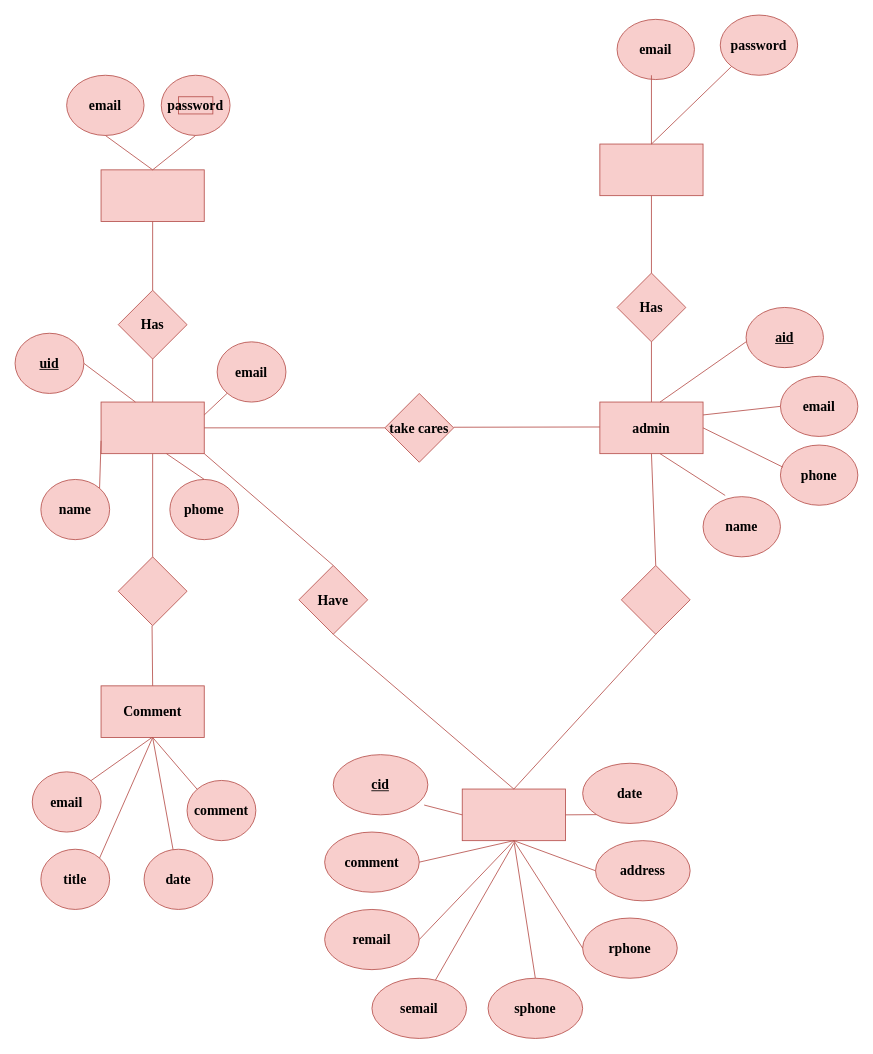
Image size: 873x1054. Some labels were removed from this diagram. The box of each missing label's shape, as (x1, y1, x2, y2) in pixels:
adlogin: (599, 143, 703, 196)
Can: (117, 556, 187, 626)
Courier: (461, 788, 565, 841)
manages: (620, 565, 690, 634)
ulogin: (100, 169, 204, 221)
Users: (100, 401, 204, 454)
